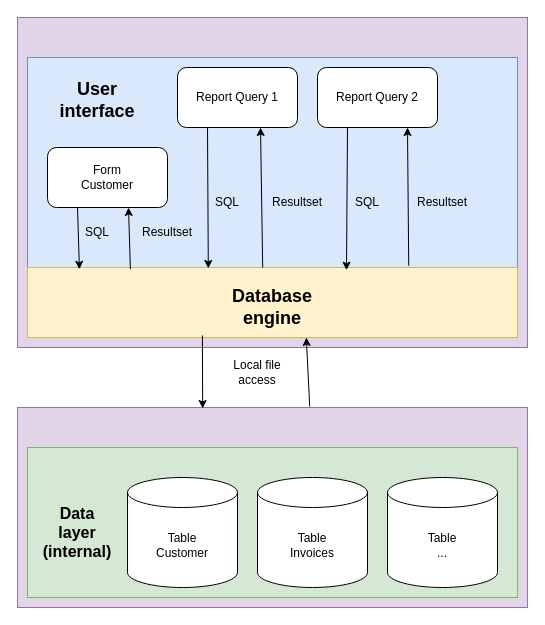
Image size: 545x625. Some labels were removed from this diagram. The box of each missing label's shape, as (x1, y1, x2, y2) in pixels:
C# frontend app: (16, 16, 528, 348)
Sqlite file (*.sqlite): (16, 406, 528, 608)
